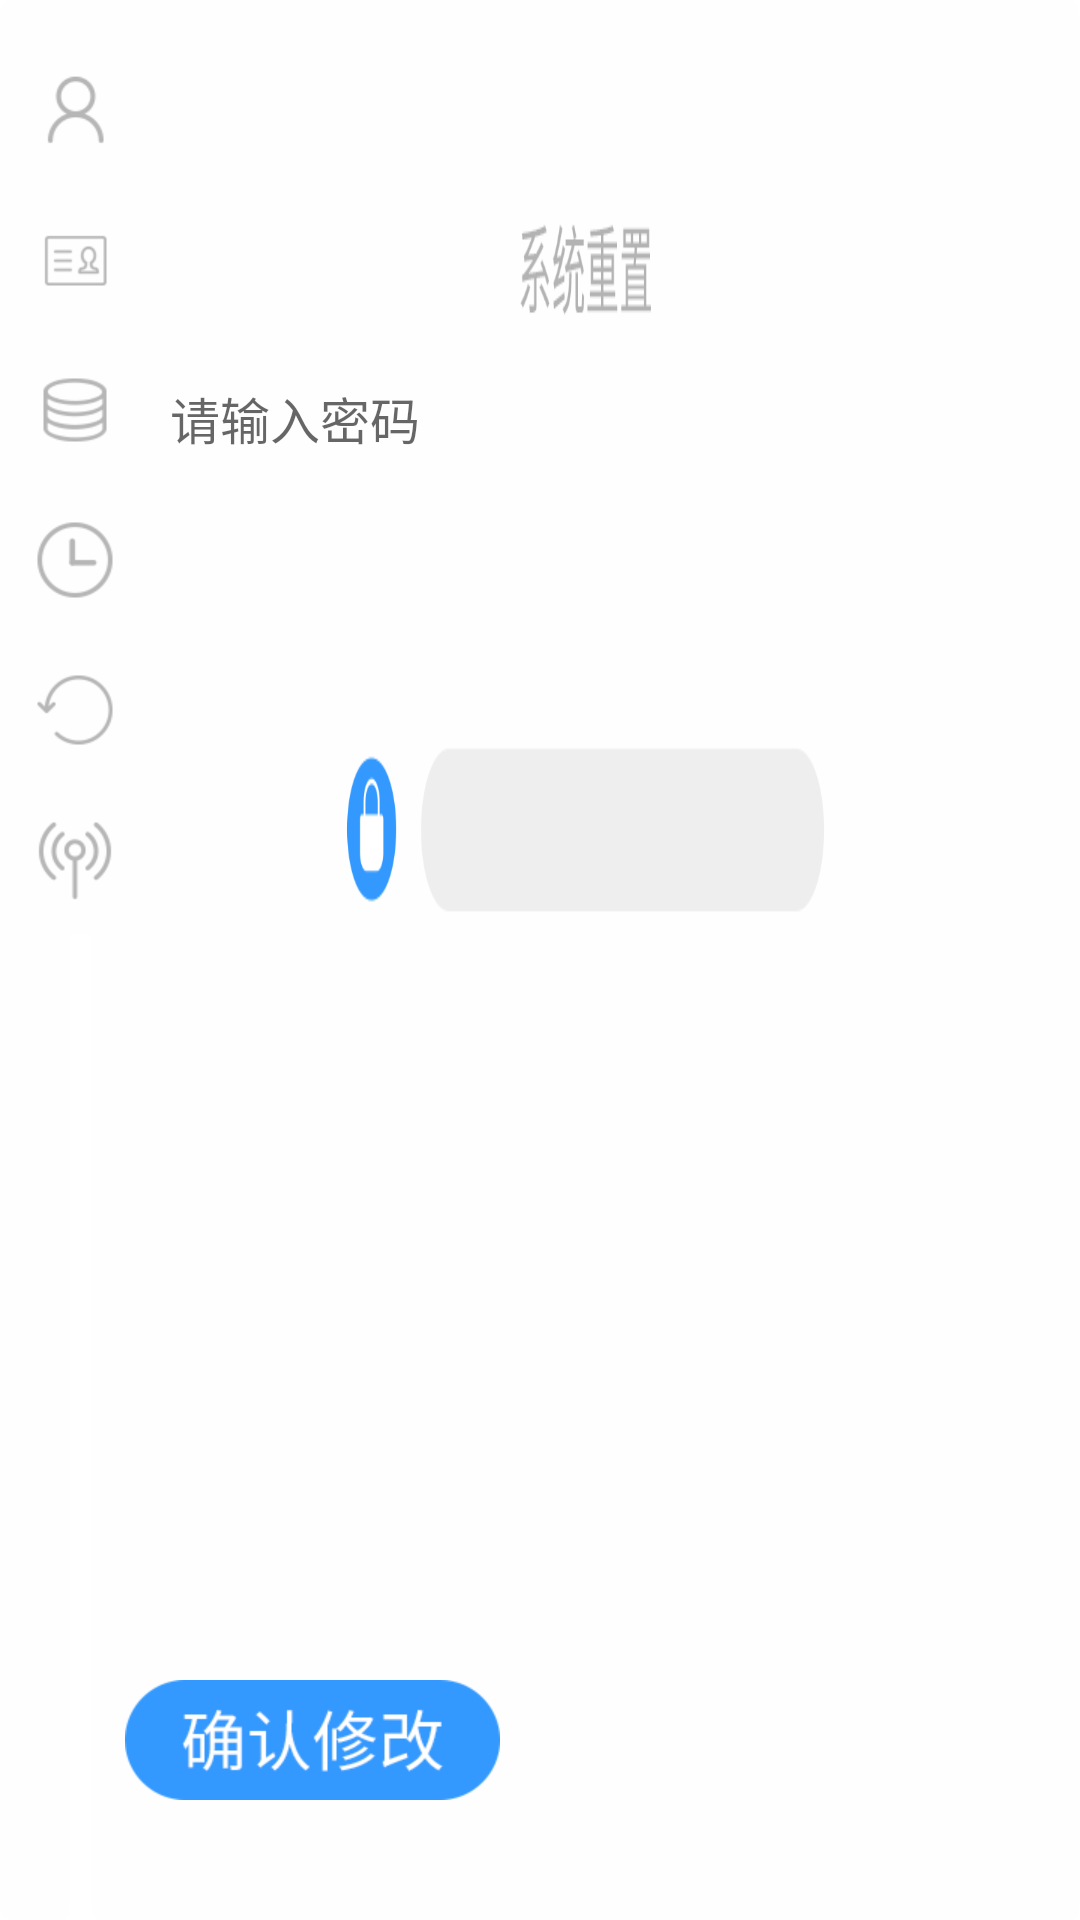

Point at icon controls on the screen. Image size 1080 × 1920, points as (x,y).
settings tab id: (76,261)
settings tab info: (76,109)
settings tab reset: (75,710)
settings tab stock: (75,410)
settings tab time: (75,560)
